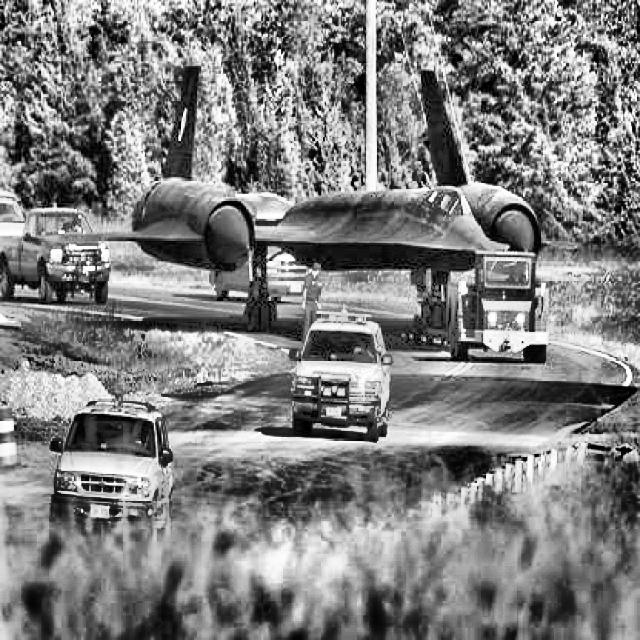SR71: (30, 64, 592, 344)
